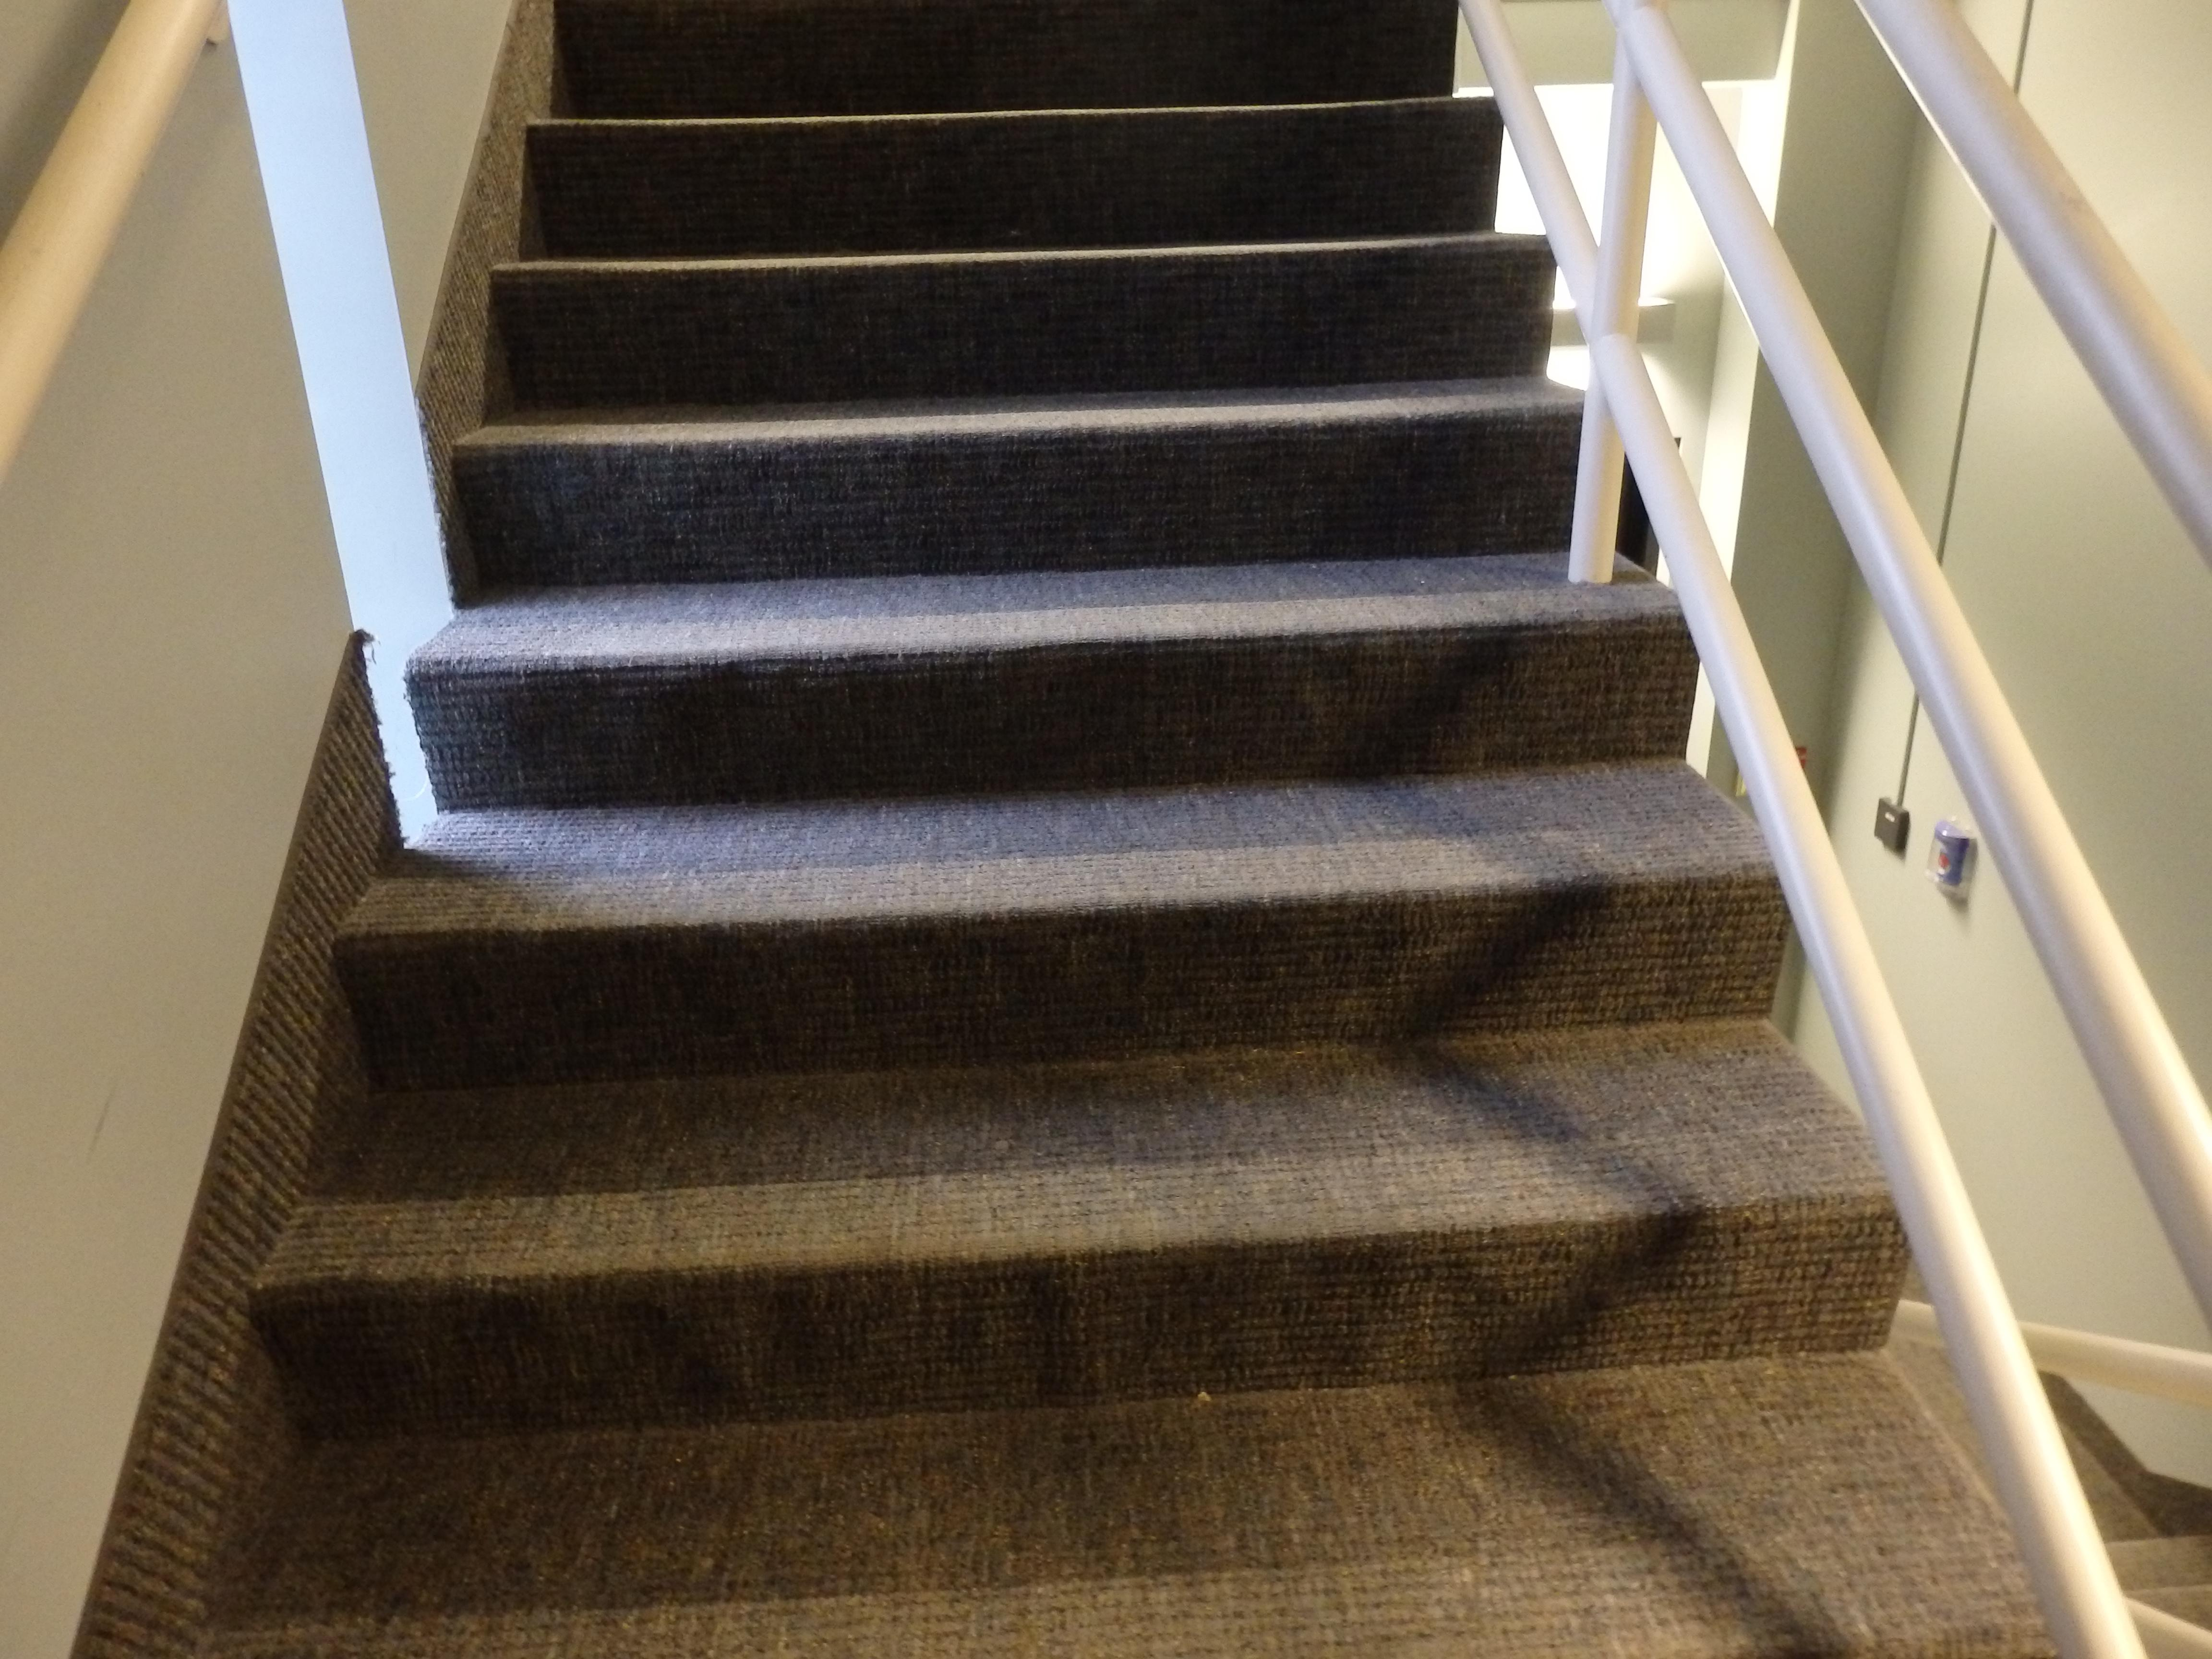stairs_up: (214, 3, 1892, 1608)
